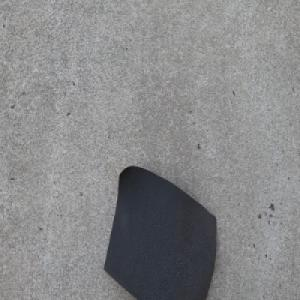PaintChip: (103, 164, 217, 300)
